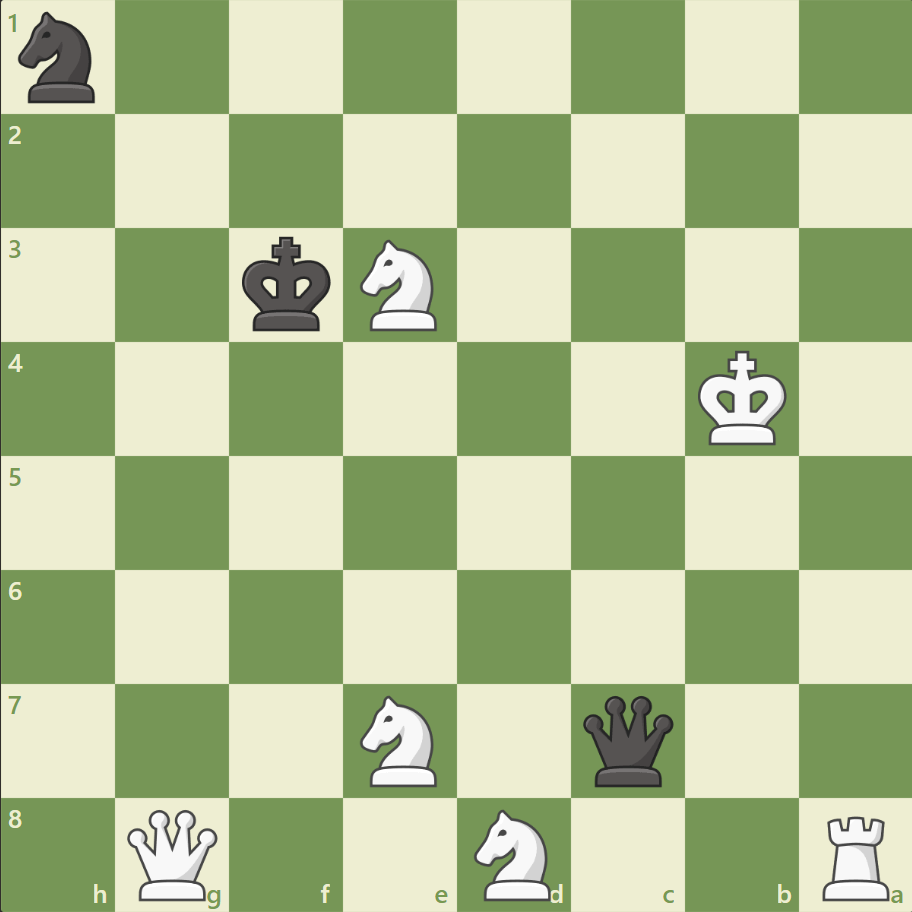K: (692, 344, 792, 452)
N: (351, 688, 449, 791), (351, 234, 449, 337), (465, 802, 562, 904)
Q: (124, 804, 223, 903)
R: (814, 806, 897, 904)
k: (238, 231, 338, 339)
n: (11, 7, 108, 110)
q: (578, 690, 677, 789)
